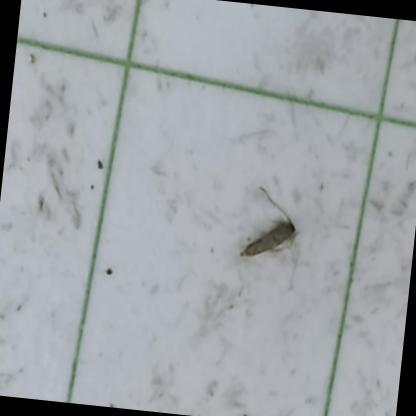prays_oleae: (218, 198, 300, 284)
